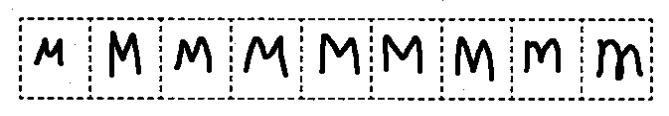M: (592, 34, 646, 89), (450, 29, 502, 86), (315, 28, 365, 83), (240, 30, 292, 82), (169, 32, 220, 82), (101, 25, 149, 77), (380, 30, 427, 81), (521, 33, 567, 77), (29, 32, 73, 72)
